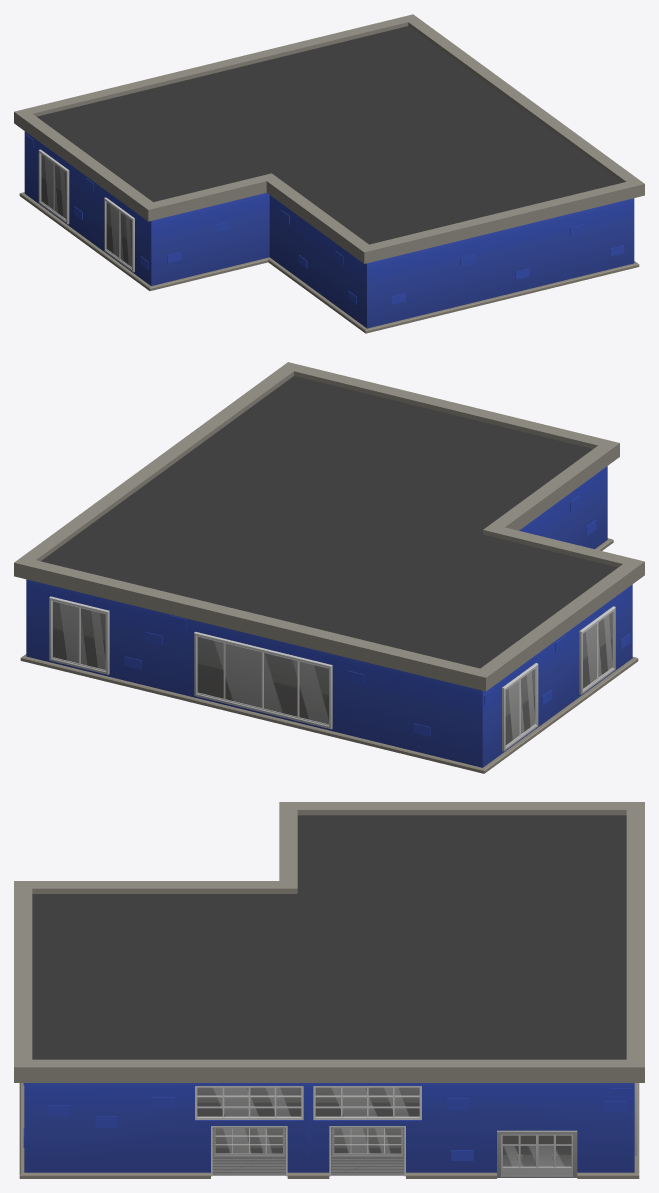
Rendered from Building_22_2_F.glb.
3 renders of one model, top to bottom at view 1: azimuth 30°, elevation 25°; view 2: azimuth 150°, elevation 25°; view 3: azimuth 270°, elevation 25°, orthographic. The views are drawn at different scales.
Parts seen in each view (by area): view 1: Building_22_2_F; view 2: Building_22_2_F; view 3: Building_22_2_F.
Part boxes in pixels (left/top/right/bottom): Building_22_2_F: left=14, top=14, right=644, bottom=333; Building_22_2_F: left=14, top=362, right=644, bottom=773; Building_22_2_F: left=14, top=802, right=644, bottom=1178.
Bounding box in the file's own units: 31.08 × 6.22 × 31.25.
Materials: 3 (3 with a texture image).
